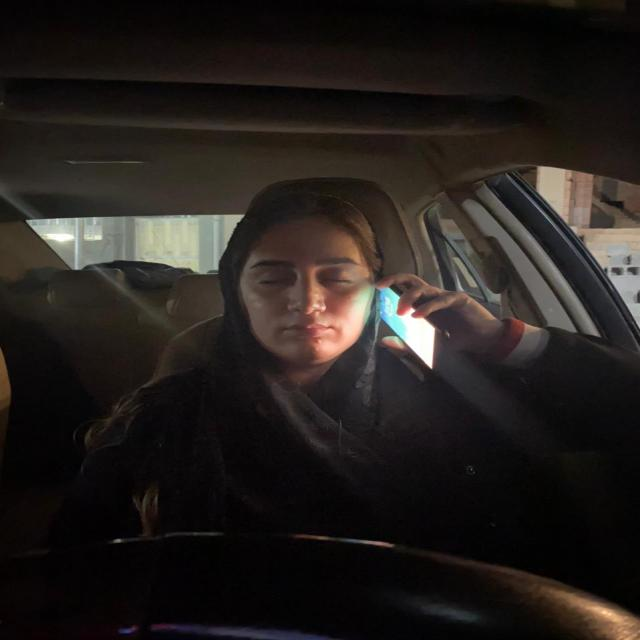mobile: (369, 283, 450, 372)
person: (244, 214, 367, 362)
